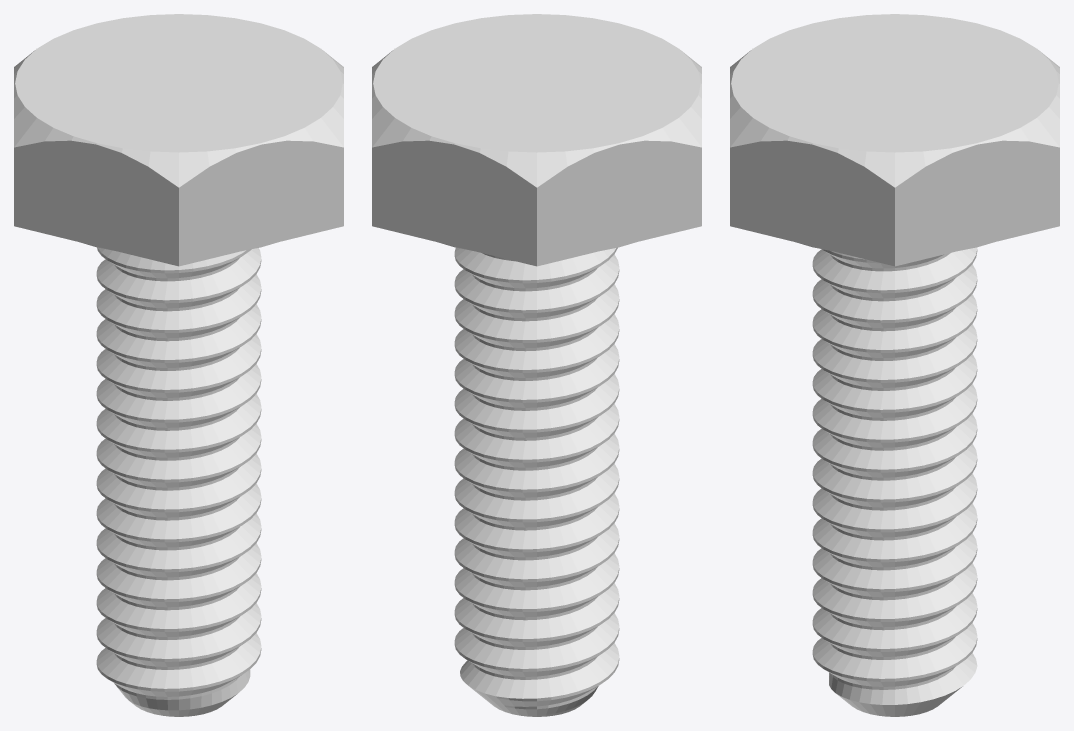
The picture shows the model from 3 angles, left to right: view 1: azimuth 30°, elevation 25°; view 2: azimuth 150°, elevation 25°; view 3: azimuth 270°, elevation 25°; orthographic projection.
Parts seen in each view (by area): view 1: M2x8; view 2: M2x8; view 3: M2x8.
Part boxes in pixels (x1,y1,x2,y2): M2x8: [14, 14, 343, 716]; M2x8: [372, 14, 701, 716]; M2x8: [730, 14, 1059, 716].
Bounding box in the file's own units: 462 × 820 × 400.
Materials: 1 (1 with a texture image).
